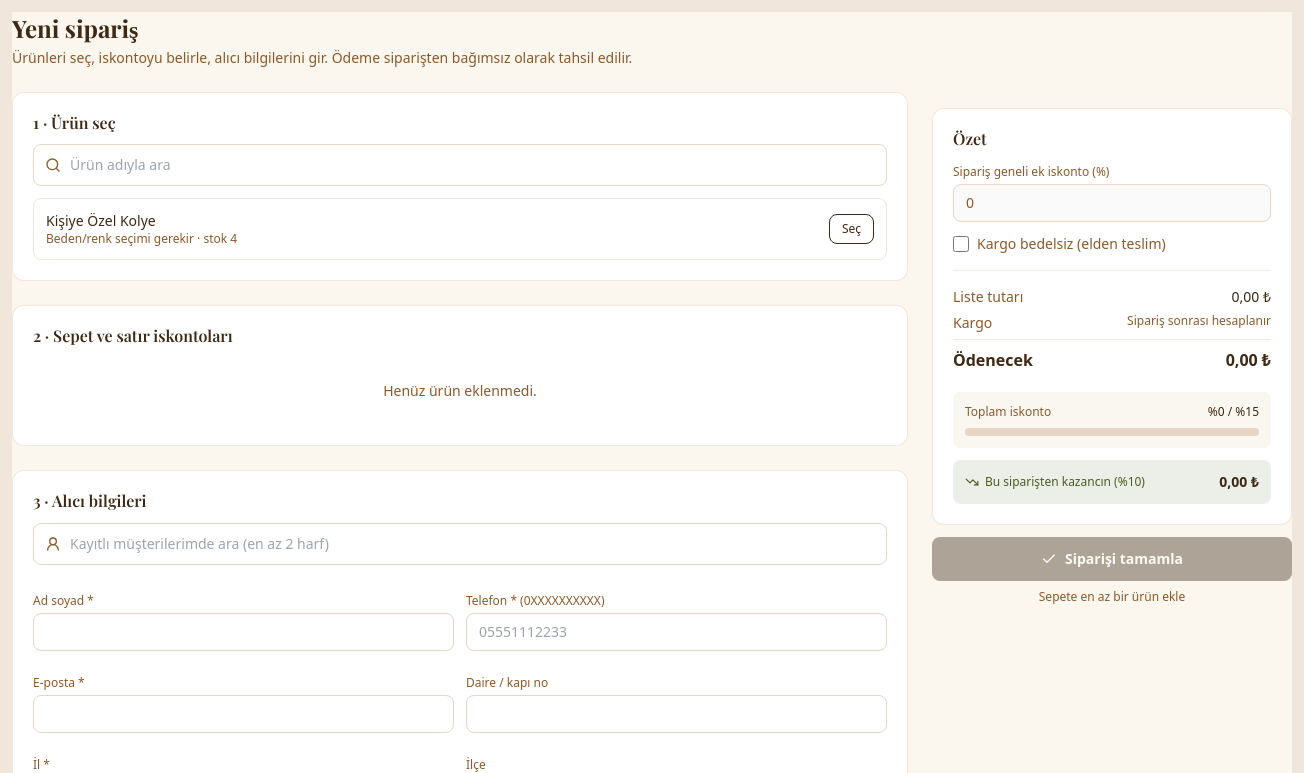
it: Yeni sipariş sayfası › stoksuz varyant sepete eklenemez
The image size is (1304, 773).
Click the button "Seç" at (851, 229), box x1=829 y1=214 x2=874 y2=244
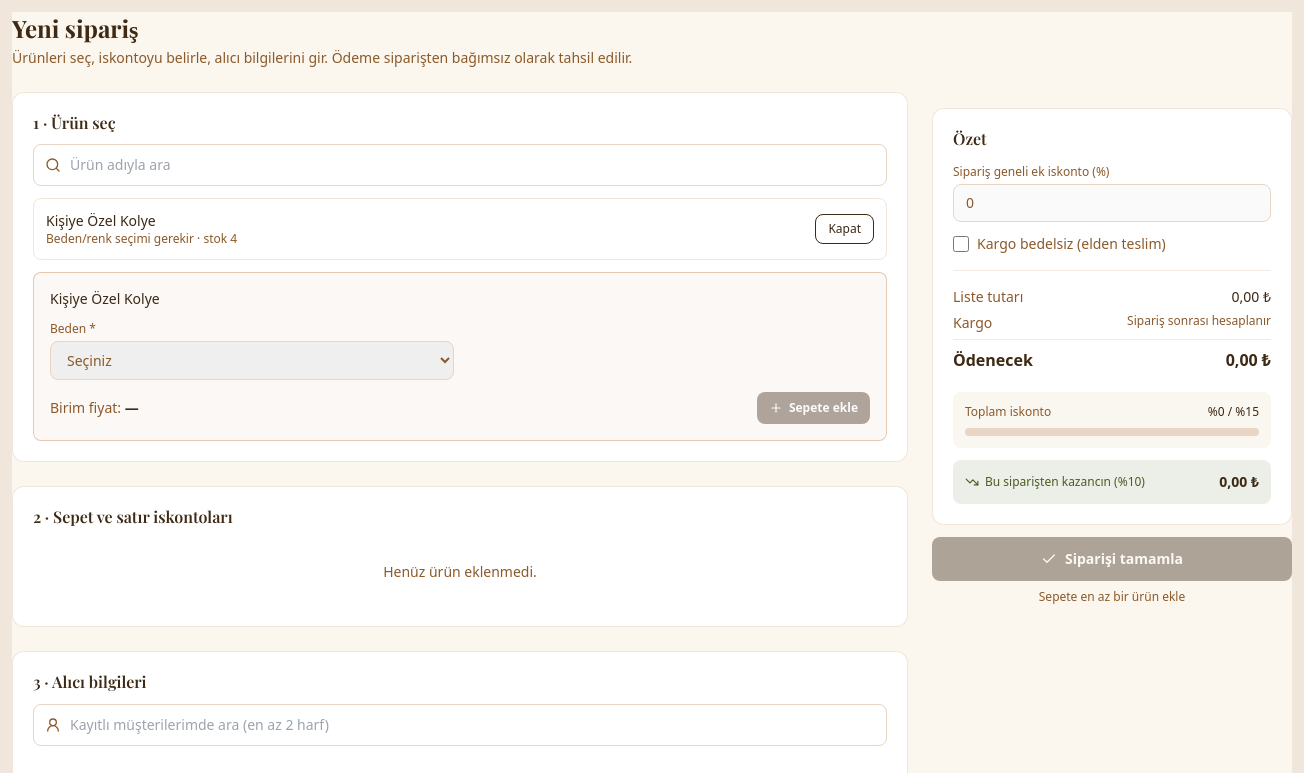
Select "Büyük — 700,00 ₺" in the dropdown labelled "Beden *" at (252, 361), box x1=50 y1=341 x2=454 y2=380
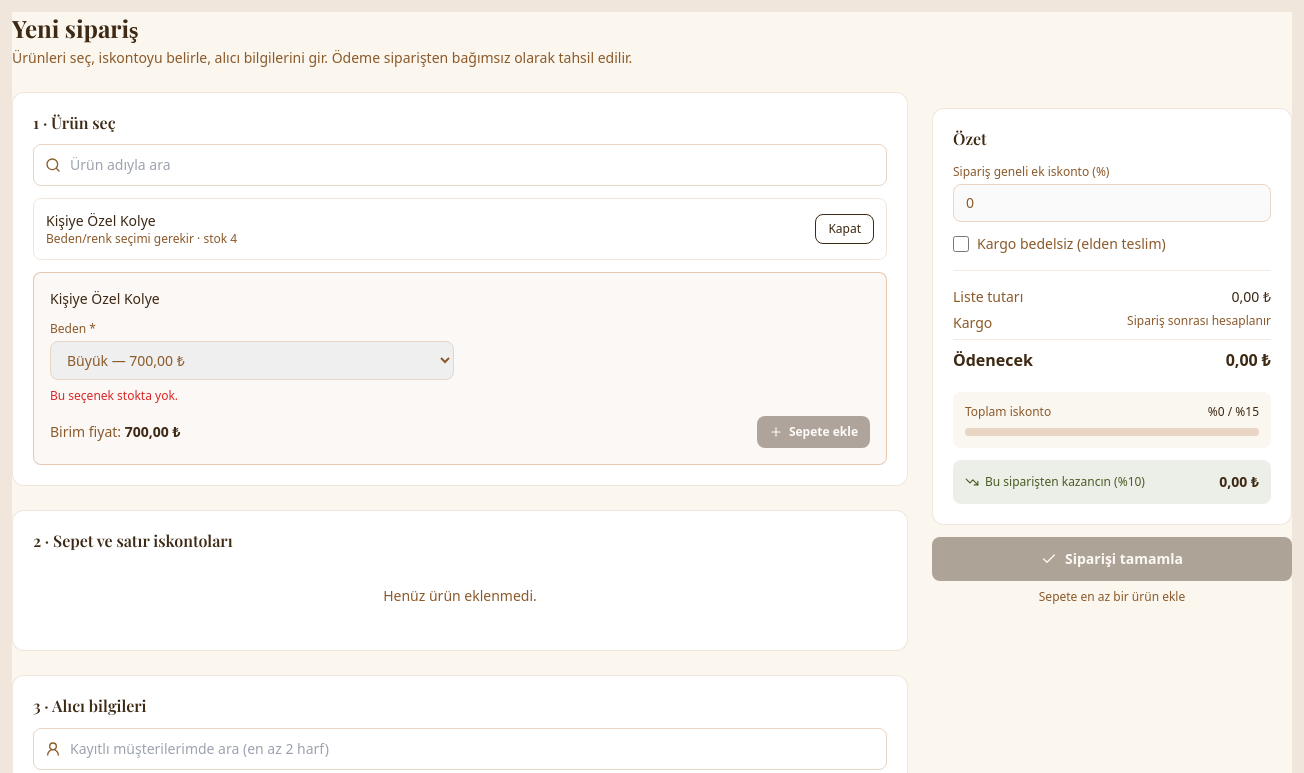
Expected: the button "Sepete ekle" is disabled, x1=757 y1=416 x2=870 y2=448
Expected: the text "Bu seçenek stokta yok." is shown, x1=50 y1=387 x2=178 y2=404
